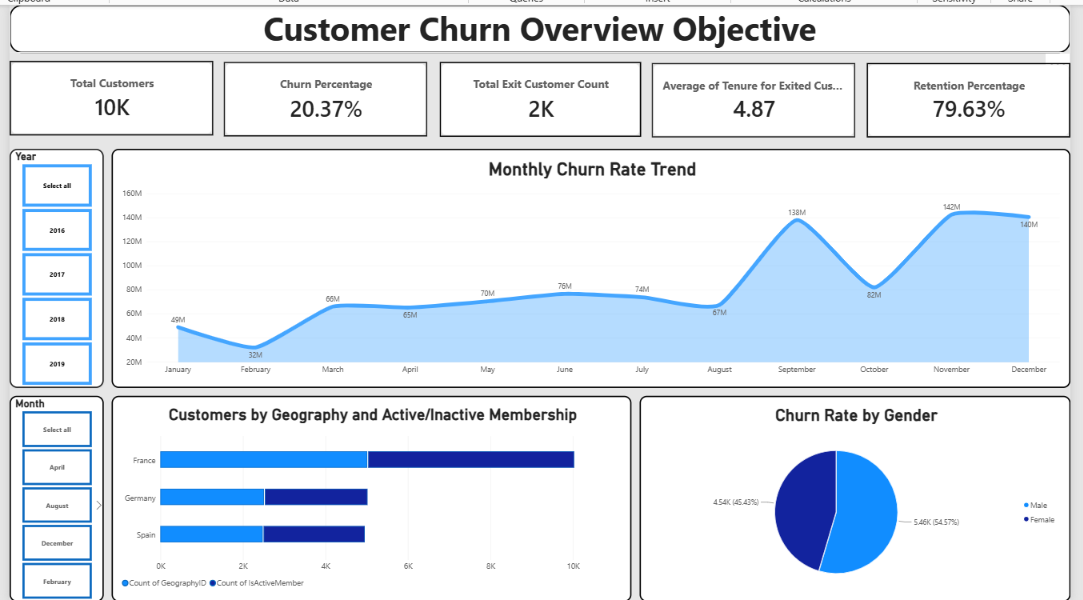

This screenshot's page, from the dashboard's own definition file:
{"tool":"powerbi","page":{"name":" Customer Churn Overview Objective","canvas":[1920,1080],"ordinal":1},"visuals":[{"type":"lineChart","title":"Monthly Churn Rate Trend","fields":{"Category":["Bank_Chduurn.Bank DOJ.Variation.Date Hierarchy.Month","Bank_Chduurn.Year"],"Y":["Sum(Bank_Chduurn.EstimatedSalary)"]},"box":[184.6,260.6,1735.5,432.5],"z":0},{"type":"barChart","title":"Customers by Geography and Active/Inactive Membership","fields":{"Category":["Sheet1.GeographyLocation"],"Y":["CountNonNull(Bank_Chduurn.GeographyID)","CountNonNull(Bank_Chduurn.IsActiveMember)"]},"box":[184.6,707.6,941,372.8],"z":1},{"type":"pieChart","title":"Churn Rate by Gender","fields":{"Category":["Table1.GenderCategory"],"Y":["CountNonNull(Bank_Chduurn.GenderID)"]},"box":[1140.1,707.6,780,372.8],"z":2},{"type":"slicer","fields":{"Values":["Bank_Chduurn.Year"]},"box":[0,260.6,170.1,432.5],"z":3},{"type":"textbox","box":[0,0,1920.1,86.9],"z":4},{"type":"slicer","fields":{"Values":["Bank_Chduurn.Month"]},"box":[0,707.6,170.1,372.8],"z":5},{"type":"cardVisual","fields":{"Data":["Bank_Chduurn.Total Customers"]},"box":[0,101.3,369.2,135.7],"z":7},{"type":"cardVisual","fields":{"Data":["Bank_Chduurn.Average of Tenure for Exited Customers"]},"box":[1161.8,105,369.2,135.7],"z":8},{"type":"cardVisual","fields":{"Data":["Bank_Chduurn.Total Exit Customer Count"]},"box":[778.2,103.2,365.6,136],"z":9},{"type":"cardVisual","fields":{"Data":["Bank_Chduurn.Churn Percentage"]},"box":[387.3,103.2,369.2,135.7],"z":10},{"type":"cardVisual","fields":{"Data":["Bank_Chduurn.Retention Percentage"]},"box":[1550.9,105,369.2,135.7],"z":11}]}

Visuals, with their boxes in screenshot pixels (x1, y1, x2, y2):
"Monthly Churn Rate Trend" lineChart: l=110, t=146, r=1062, b=383
"Customers by Geography and Active/Inactive Membership" barChart: l=110, t=391, r=626, b=595
"Churn Rate by Gender" pieChart: l=634, t=391, r=1062, b=595
slicer - Bank_Chduurn.Year: l=8, t=146, r=102, b=383
textbox: l=8, t=3, r=1062, b=50
slicer - Bank_Chduurn.Month: l=8, t=391, r=102, b=595
cardVisual - Bank_Chduurn.Total Customers: l=8, t=58, r=211, b=133
cardVisual - Bank_Chduurn.Average of Tenure for Exited Customers: l=646, t=60, r=848, b=135
cardVisual - Bank_Chduurn.Total Exit Customer Count: l=435, t=59, r=636, b=134
cardVisual - Bank_Chduurn.Churn Percentage: l=221, t=59, r=423, b=134
cardVisual - Bank_Chduurn.Retention Percentage: l=859, t=60, r=1062, b=135
